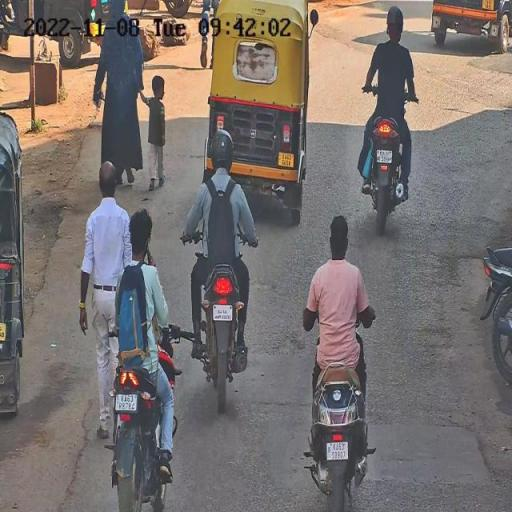numberplate: (114, 394, 138, 412)
using mobile: (144, 241, 159, 270)
